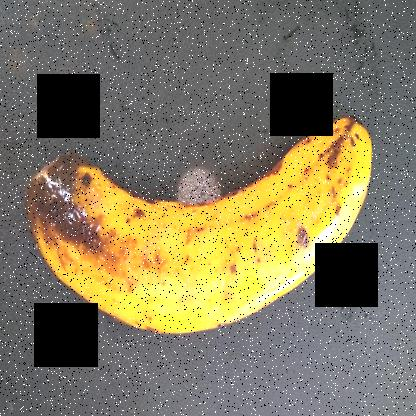ripe: (160, 107, 382, 367)
rotten: (5, 131, 188, 348)
